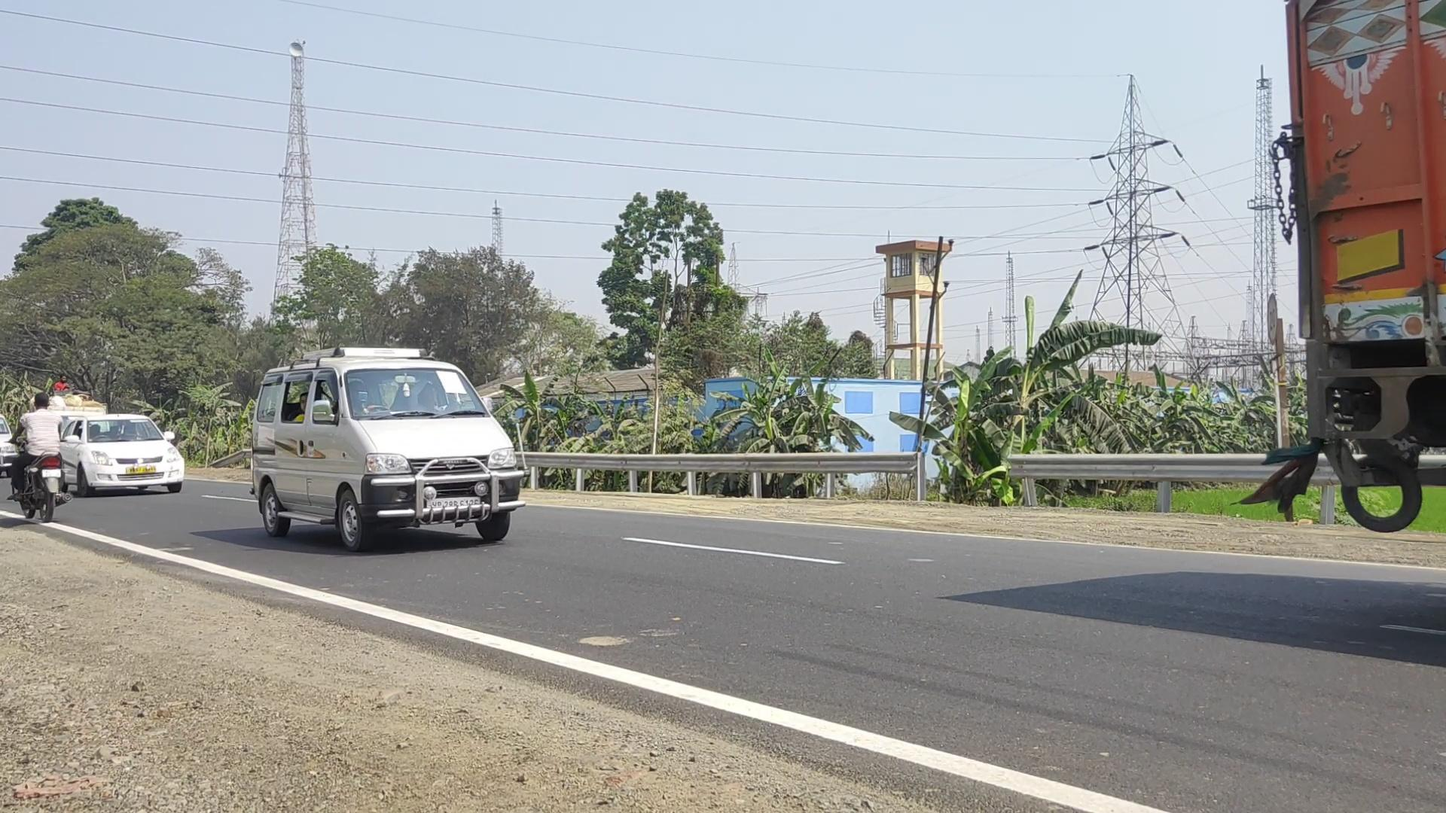bike: (7, 393, 72, 524)
car: (56, 414, 185, 498)
van: (251, 346, 529, 551)
